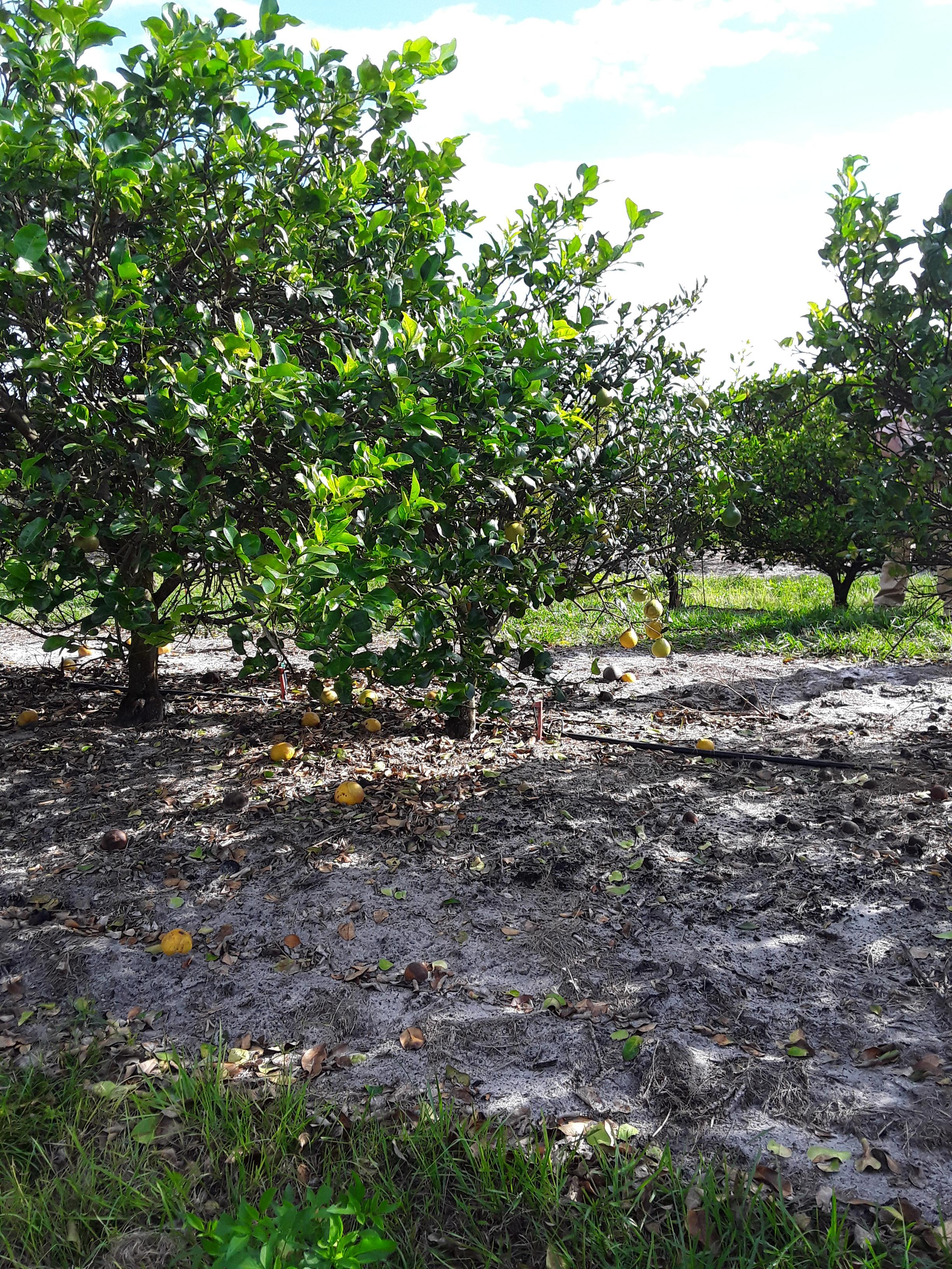fruit_on_ground: (69, 528, 103, 554), (721, 498, 745, 529), (500, 518, 529, 542), (649, 633, 674, 659), (594, 388, 617, 410), (644, 619, 667, 641), (619, 627, 640, 650), (628, 587, 656, 603), (591, 528, 613, 547), (644, 597, 663, 619), (691, 395, 713, 413)
fruit_on_tree: (159, 927, 198, 959), (334, 781, 365, 815), (402, 960, 432, 987), (104, 824, 127, 851), (267, 742, 290, 768), (222, 790, 251, 810), (357, 689, 381, 711), (906, 830, 930, 850), (302, 708, 322, 731), (695, 736, 718, 755), (363, 714, 383, 735), (929, 783, 949, 804), (318, 688, 340, 707), (199, 668, 223, 685), (156, 638, 176, 657), (58, 657, 79, 673), (908, 896, 929, 912), (17, 709, 35, 727), (838, 820, 861, 834), (603, 666, 623, 682), (683, 810, 701, 827), (788, 818, 809, 832), (427, 689, 445, 705), (595, 692, 619, 704), (748, 758, 768, 772), (859, 778, 880, 791), (621, 670, 639, 685), (851, 796, 869, 811), (906, 844, 926, 857), (78, 642, 93, 657), (774, 812, 789, 826), (122, 633, 136, 647), (926, 723, 941, 735), (730, 757, 745, 769), (796, 785, 810, 797), (859, 728, 873, 738)
